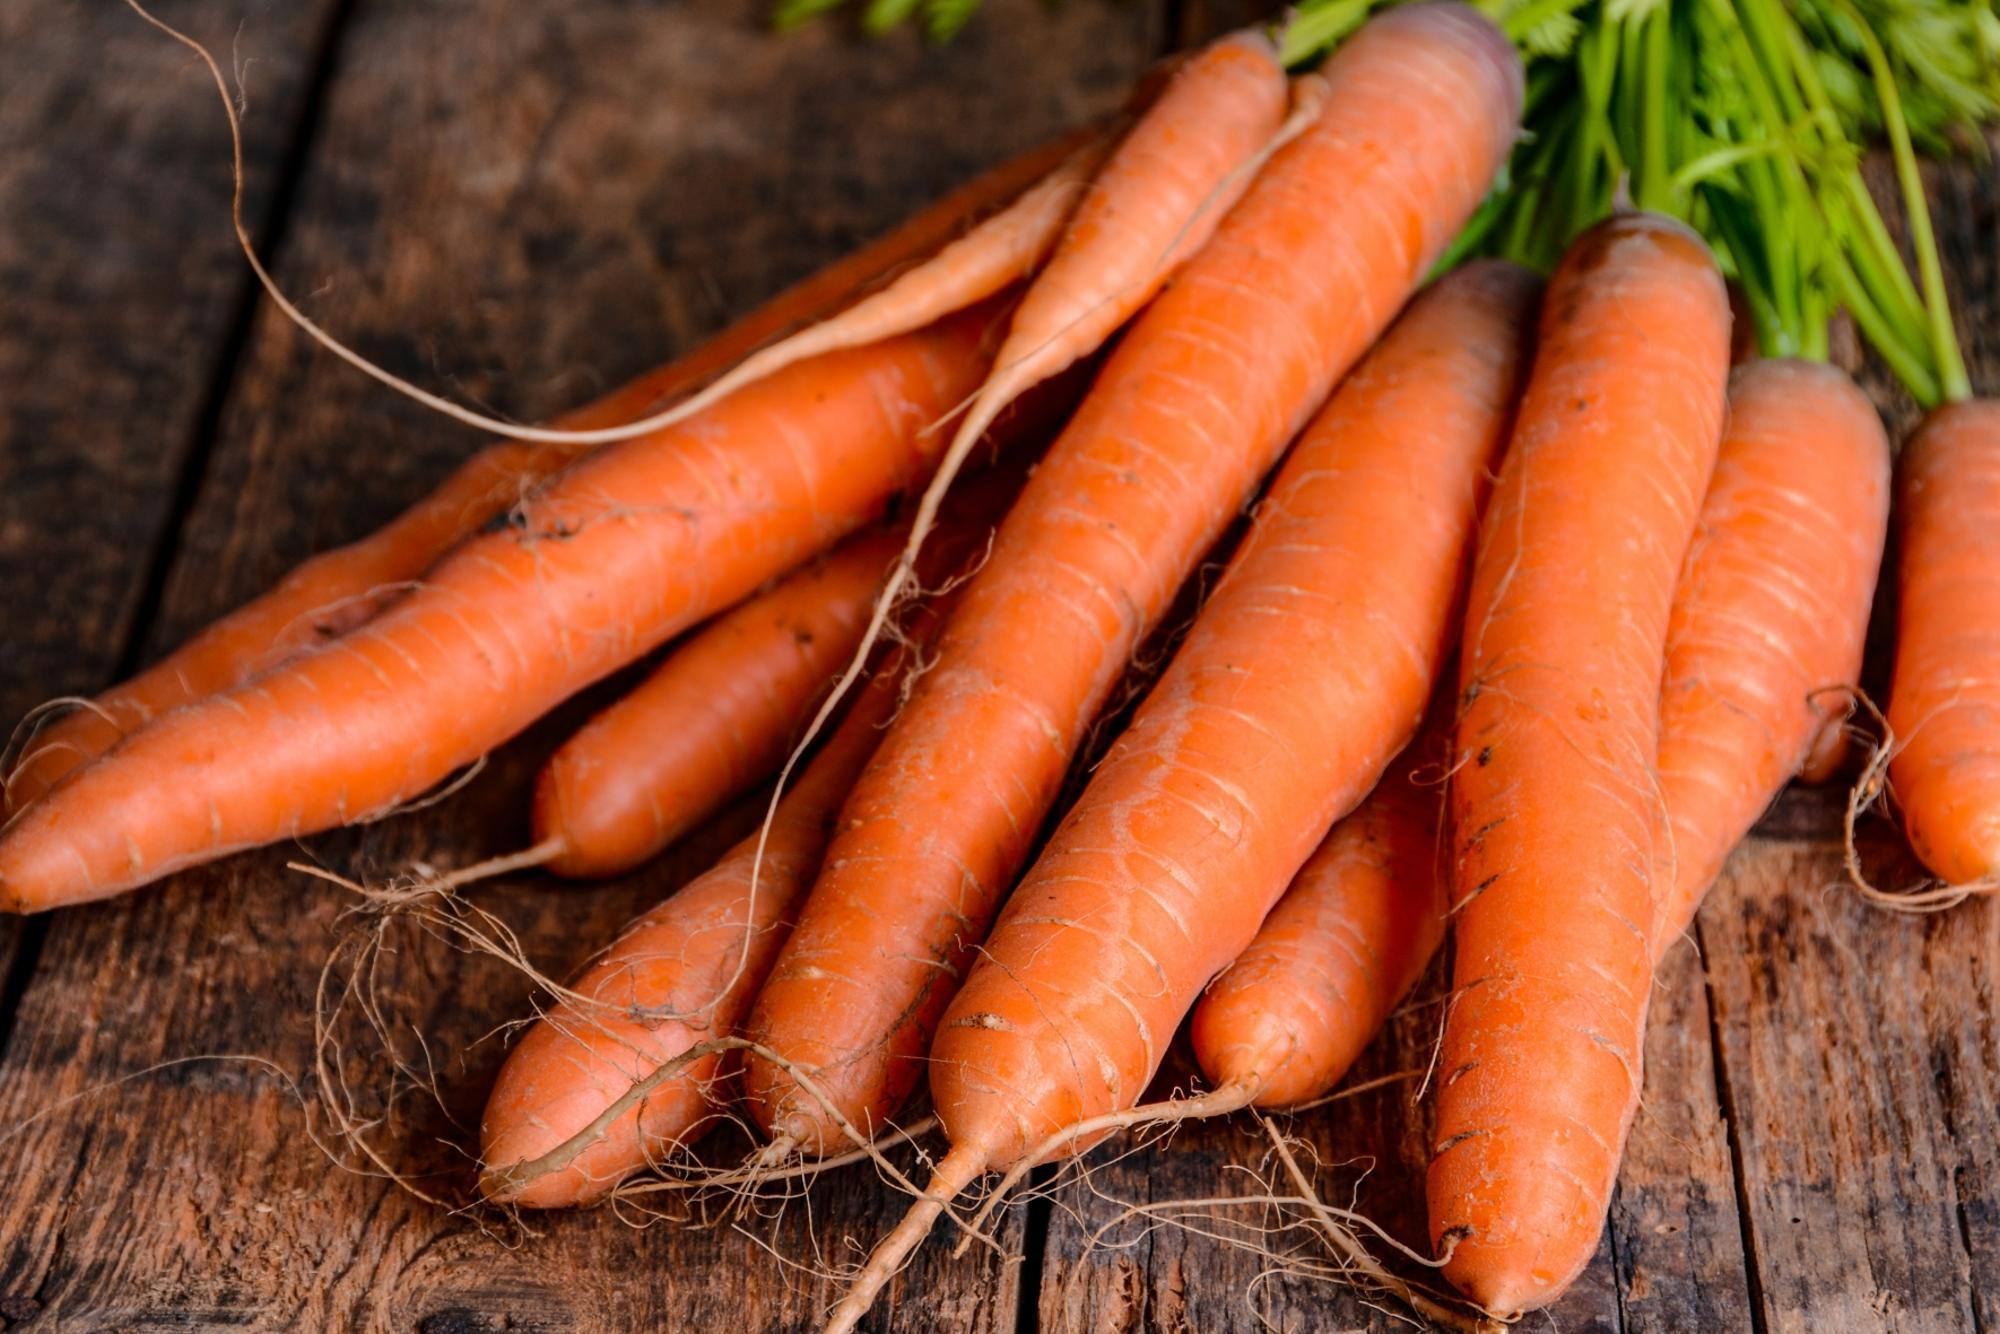carrot: (0, 7, 1591, 1206), (1141, 28, 1999, 1304), (1510, 185, 2000, 1334)
